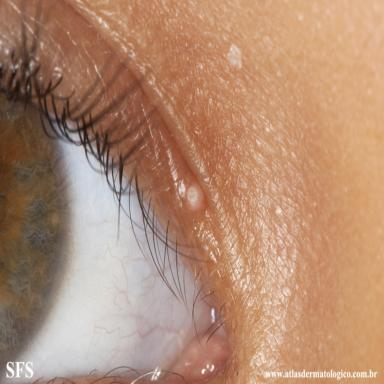Molluscum-Contagiosum: (185, 182, 205, 213), (227, 44, 242, 69), (208, 98, 214, 106)
